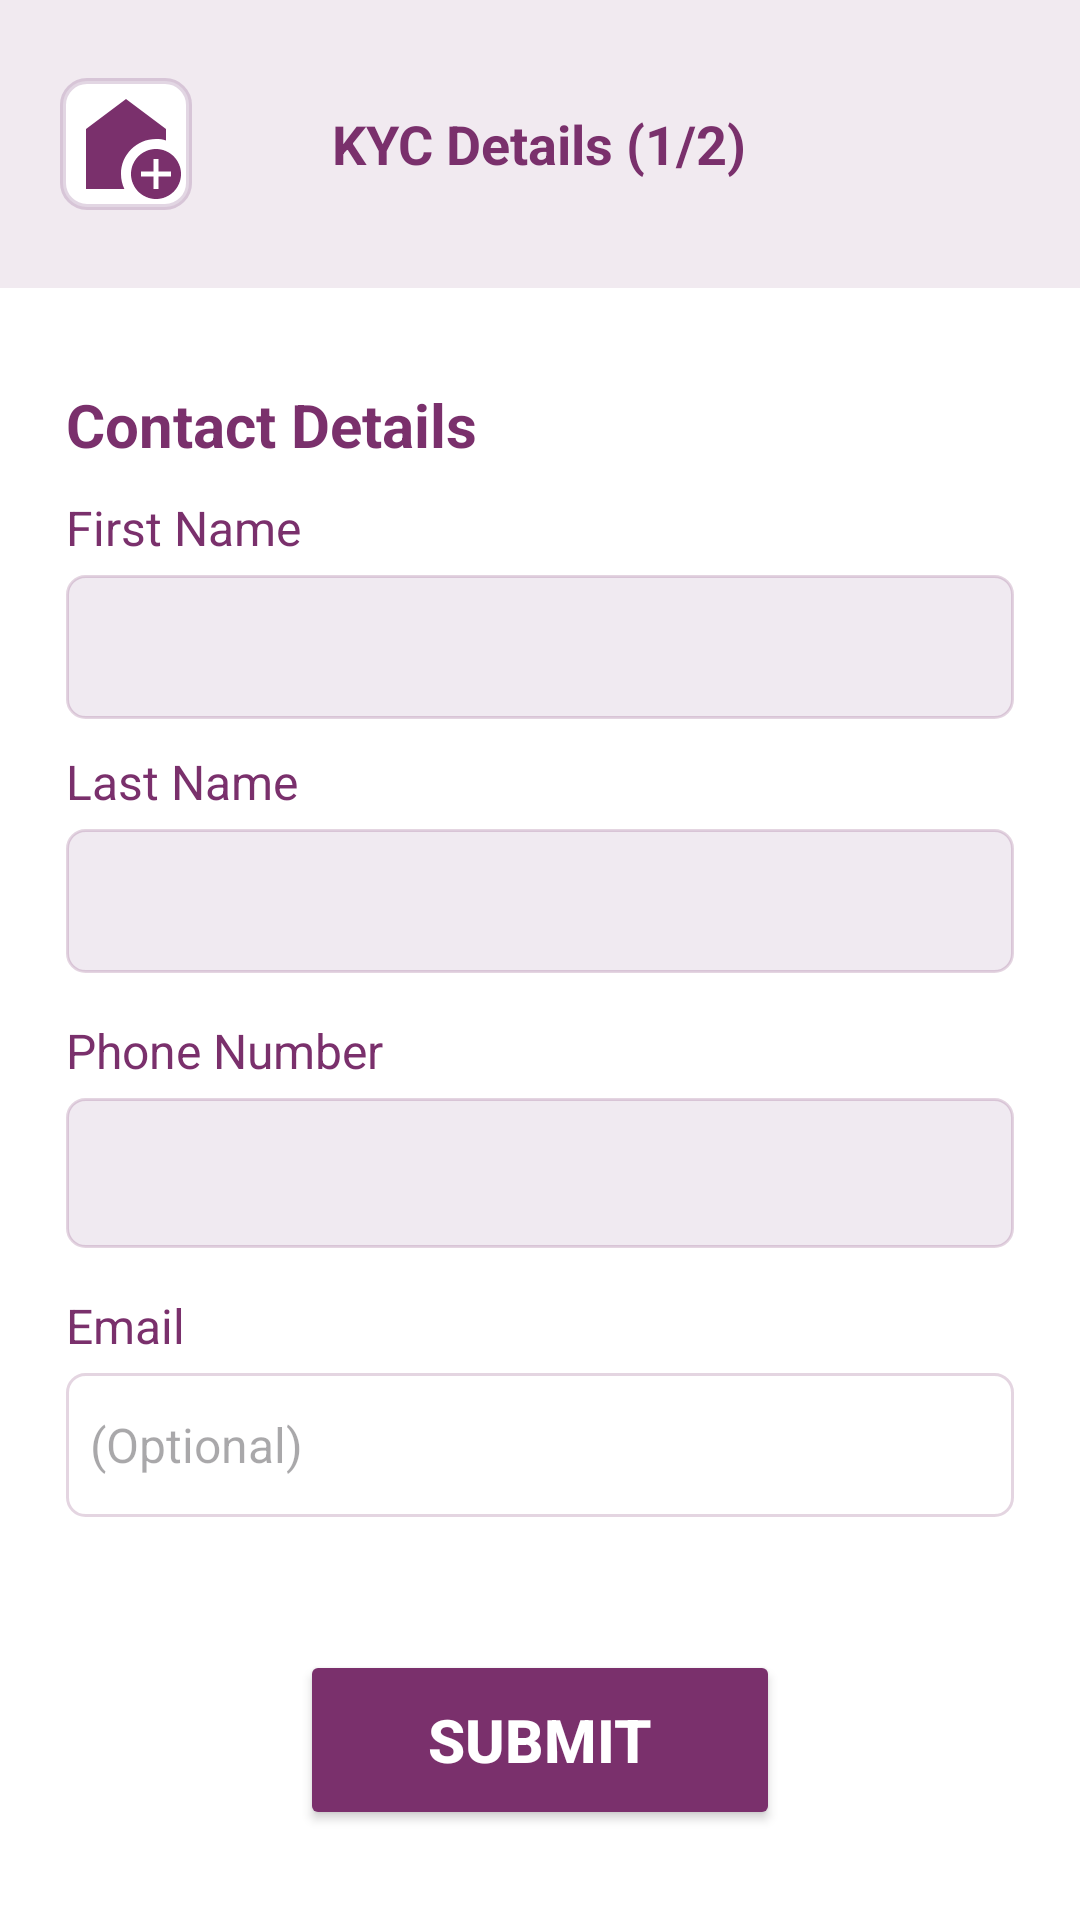

Where to tap for icons on this 1080*1920 app screen, as [x,y]:
add home: [126,144]
